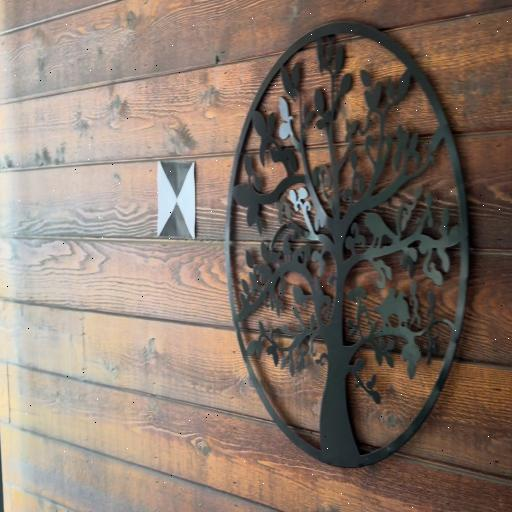target: (159, 164, 195, 238)
